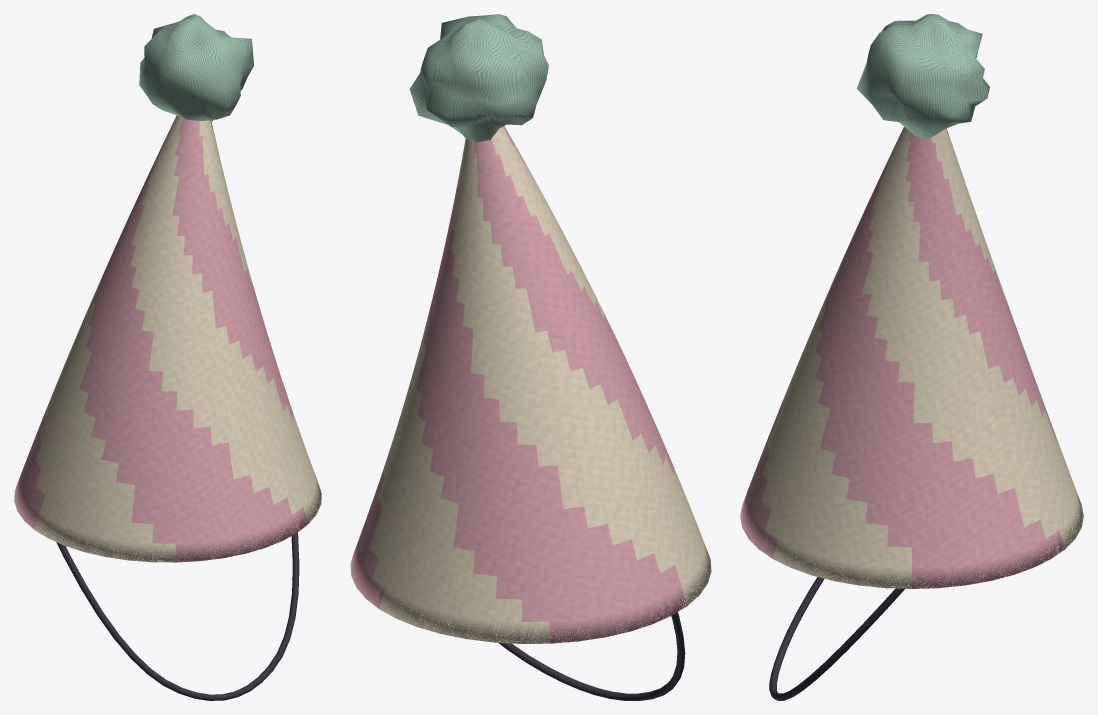
Rendered from party_hat.glb.
3 renders of one model, left to right at view 1: azimuth 30°, elevation 25°; view 2: azimuth 150°, elevation 25°; view 3: azimuth 270°, elevation 25°, orthographic. The views are drawn at different scales.
Visible parts, largest first — view 1: party_hat; view 2: party_hat; view 3: party_hat.
Boxes of the visible parts, bbox=[...] form: party_hat: bbox=[14, 14, 321, 700]; party_hat: bbox=[350, 14, 711, 700]; party_hat: bbox=[740, 14, 1083, 700].
Bounding box in the file's own units: 0.136 × 0.3019 × 0.136.
Materials: 4 (3 with a texture image).
